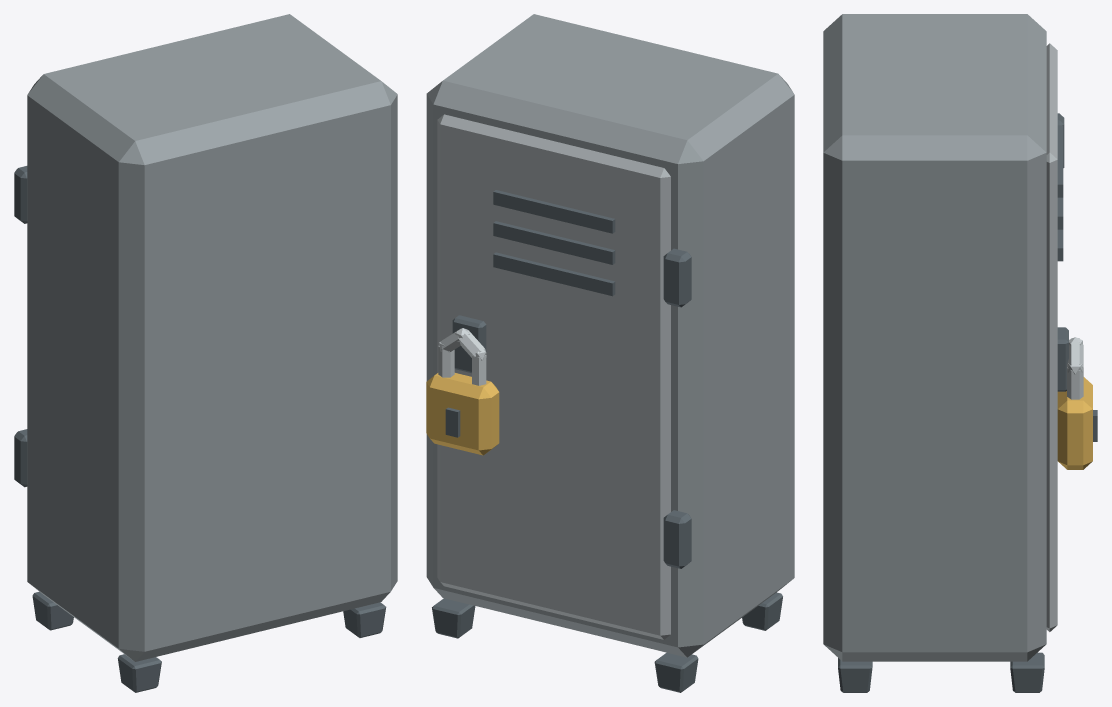
Rendered from BUILD0025_MetalLockerCabinet.fbx.
The picture shows the model from 3 angles, left to right: view 1: azimuth 30°, elevation 25°; view 2: azimuth 150°, elevation 25°; view 3: azimuth 270°, elevation 25°; orthographic projection.
Parts seen in each view (by area): view 1: BUILD0025_MetalLockerCabinet; view 2: BUILD0025_MetalLockerCabinet; view 3: BUILD0025_MetalLockerCabinet.
Boxes of the visible parts, <box> form: BUILD0025_MetalLockerCabinet: <box>14,14,397,692</box>; BUILD0025_MetalLockerCabinet: <box>426,14,794,692</box>; BUILD0025_MetalLockerCabinet: <box>823,14,1097,692</box>.
Size of the model in its own units: 1.02 by 1.93 by 0.86.
